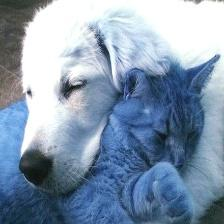kedo: (110, 56, 221, 224)
